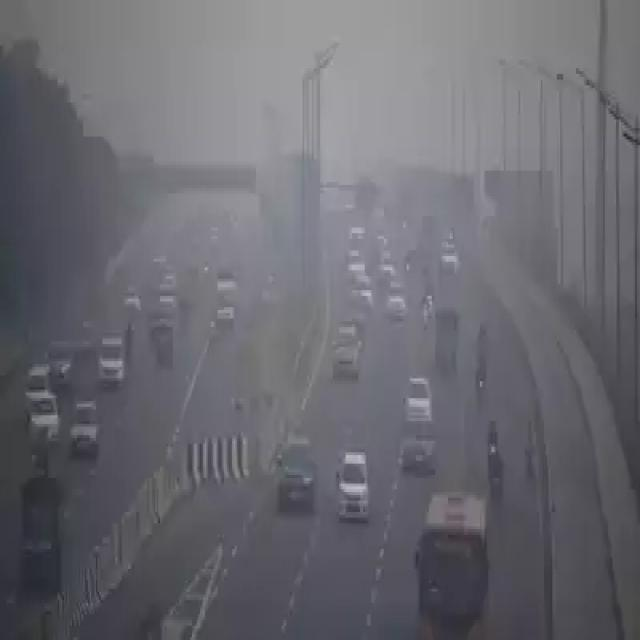moderate_traffic: (285, 196, 528, 640), (16, 195, 238, 588)
